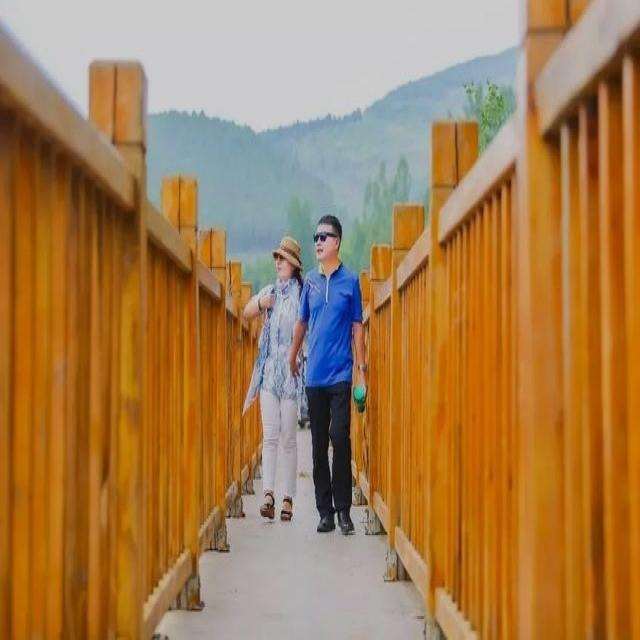non-fight: (288, 210, 368, 538), (246, 238, 314, 527)
